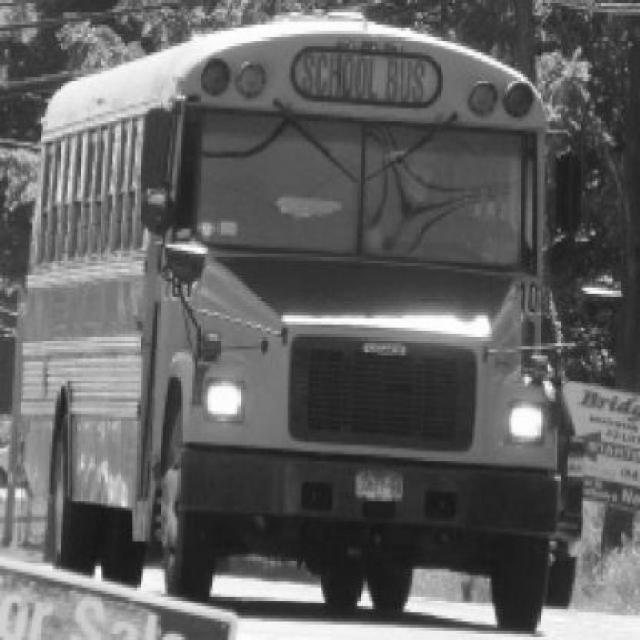Bus: (18, 4, 561, 634)
